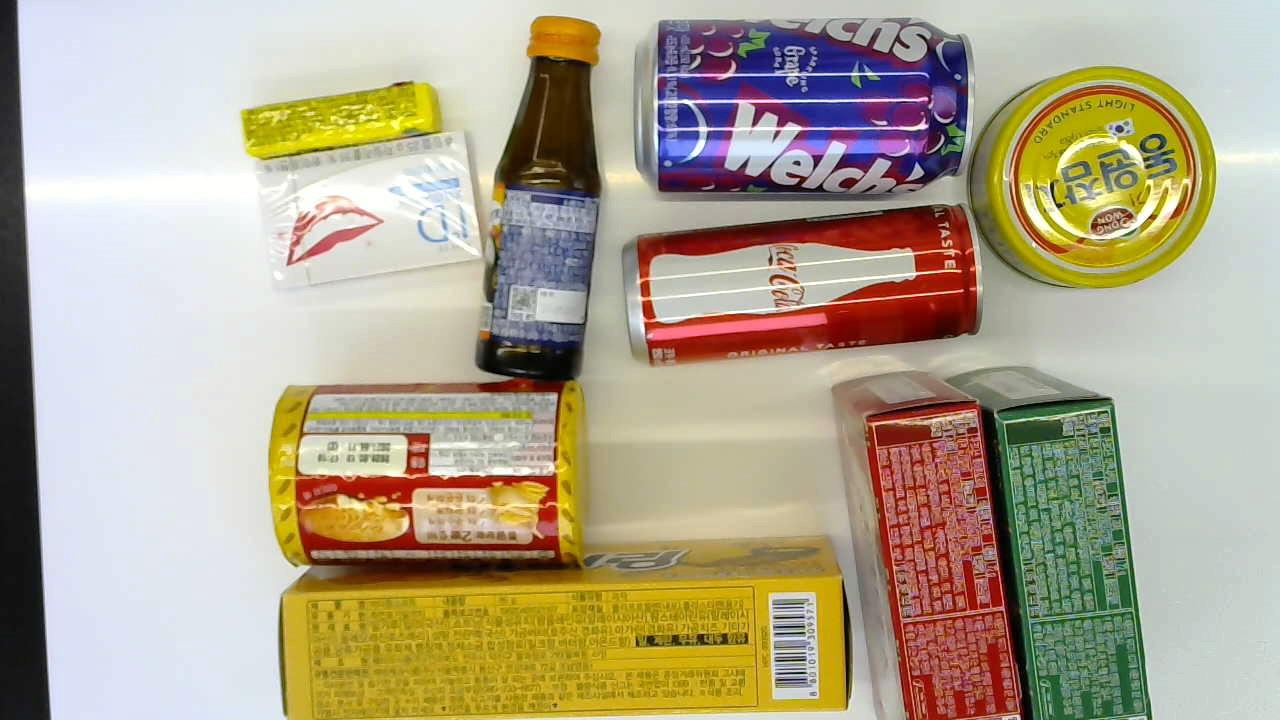ID_gum: (250, 125, 482, 298)
buttering: (282, 533, 851, 719)
coke: (624, 205, 982, 366)
couque_coffee: (946, 362, 1144, 720)
couque_white: (833, 370, 1021, 720)
diget_ori: (263, 384, 603, 574)
juicyfresh: (241, 85, 443, 151)
tuna: (972, 63, 1215, 289)
vita500: (476, 17, 603, 388)
welchs: (636, 16, 974, 193)
